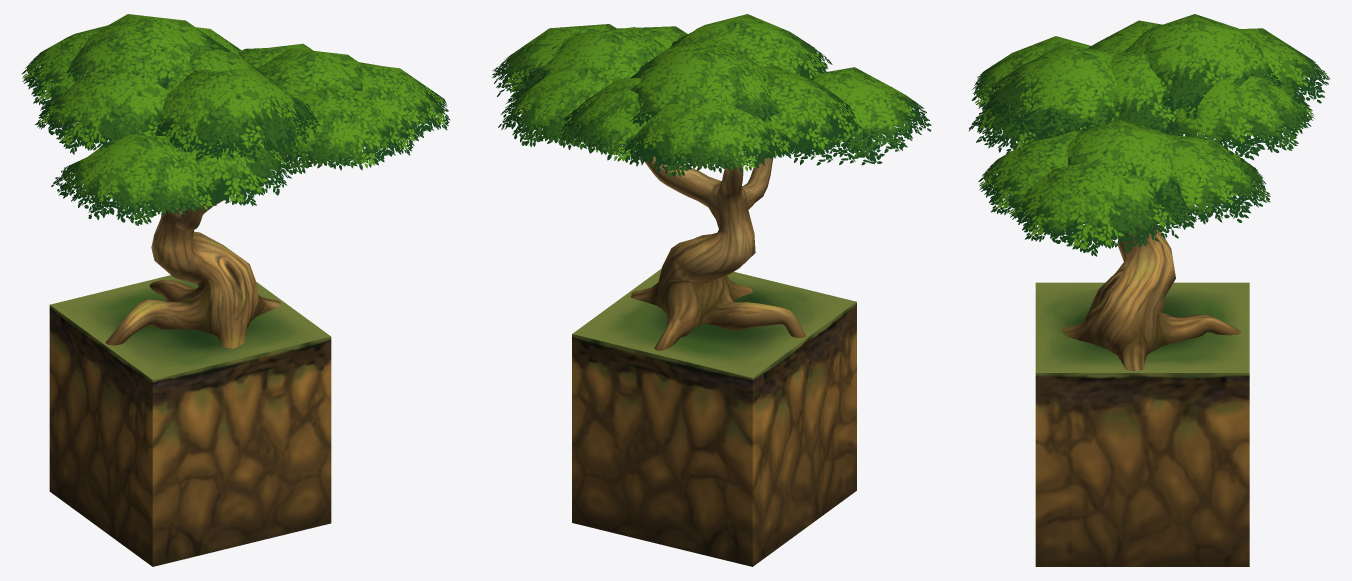
The model's file is HandpaintedTree.obj.
The picture shows the model from 3 angles, left to right: view 1: azimuth 30°, elevation 25°; view 2: azimuth 150°, elevation 25°; view 3: azimuth 270°, elevation 25°; orthographic projection. The views are drawn at different scales.
Visible parts, largest first — view 1: Ground_Cube, Leaves_Plane.008, Trunk_Cube.001; view 2: Ground_Cube, Leaves_Plane.008, Trunk_Cube.001; view 3: Leaves_Plane.008, Ground_Cube, Trunk_Cube.001.
Part boxes in pixels (x1,y1,x2,y2): Ground_Cube: [49, 275, 331, 566]; Leaves_Plane.008: [22, 14, 450, 225]; Trunk_Cube.001: [105, 179, 281, 348]; Ground_Cube: [572, 269, 856, 566]; Leaves_Plane.008: [492, 14, 931, 177]; Trunk_Cube.001: [630, 151, 805, 350]; Leaves_Plane.008: [968, 14, 1329, 256]; Ground_Cube: [1035, 282, 1249, 566]; Trunk_Cube.001: [1061, 126, 1240, 371].
Bounding box in the file's own units: 6.4 × 7.28 × 5.03.
